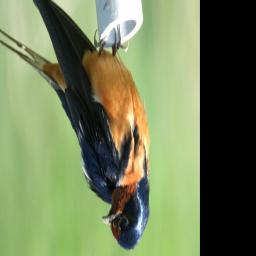Swallow: (0, 0, 152, 256)
